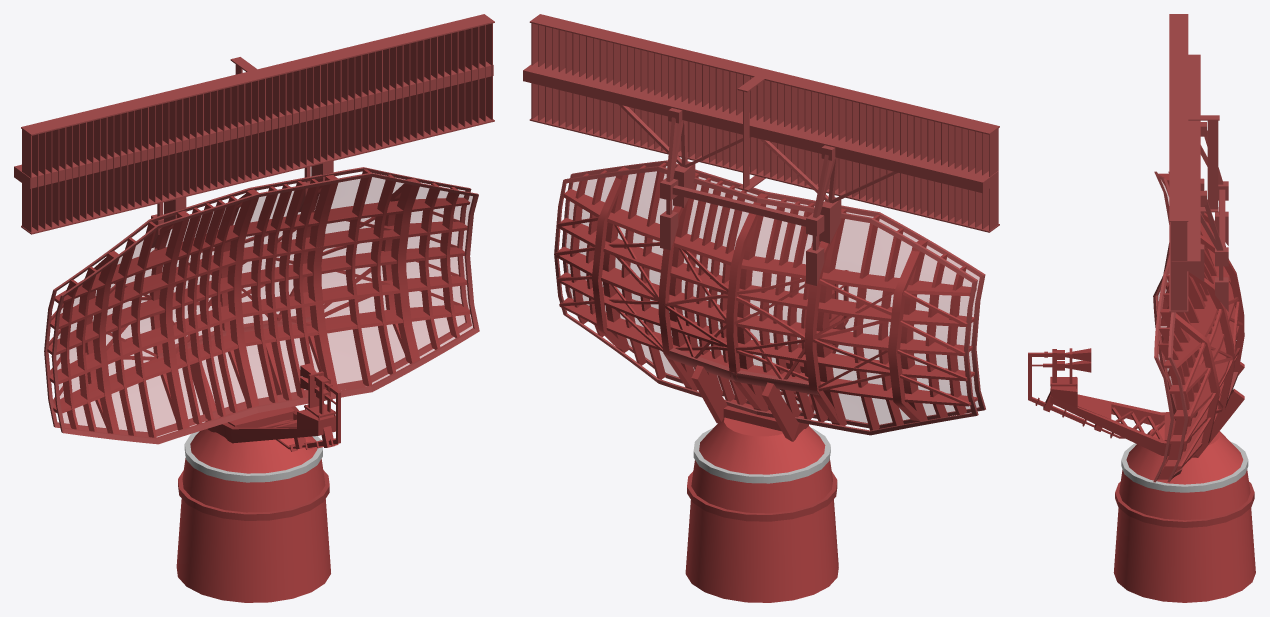
Rendered from Air_Radar_High.fbx.
3 views of the same model, side by side, from view 1: azimuth 30°, elevation 25°; view 2: azimuth 150°, elevation 25°; view 3: azimuth 270°, elevation 25° (orthographic). The views are drawn at different scales.
Parts seen in each view (by area): view 1: Air_Rader; view 2: Air_Rader; view 3: Air_Rader.
Part boxes in pixels (x1,y1,x2,y2): Air_Rader: (14,14,494,602); Air_Rader: (523,14,999,602); Air_Rader: (1028,14,1255,602).
Bounding box in the file's own units: 18.07 × 18.55 × 8.41.
